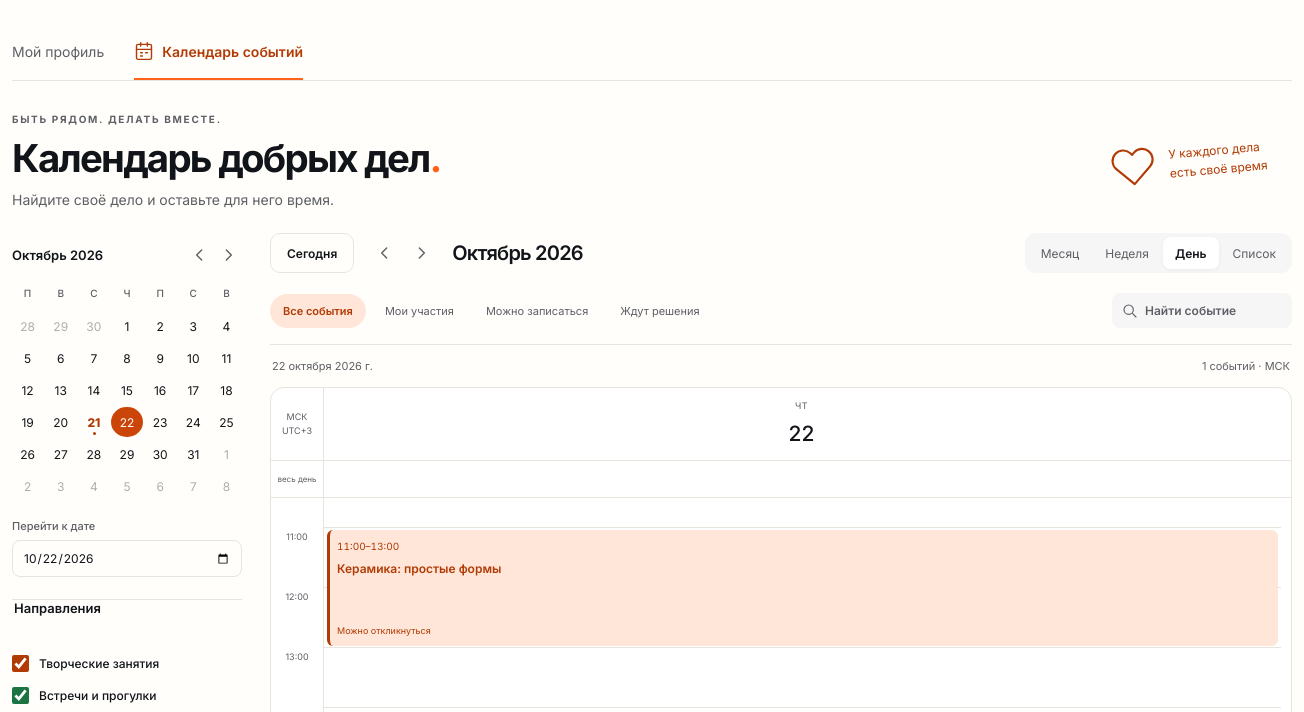
Test case: calendar interaction › combines search, direction and participation filters with an empty state
(page scrolled)
Expected: the button with aria-label "Керамика: простые формы, " is shown, [327,530,1278,646]
Type "несуществующее" into the search field.
click(1214, 311); type("несуществующее")  # box [1145,293,1282,328]
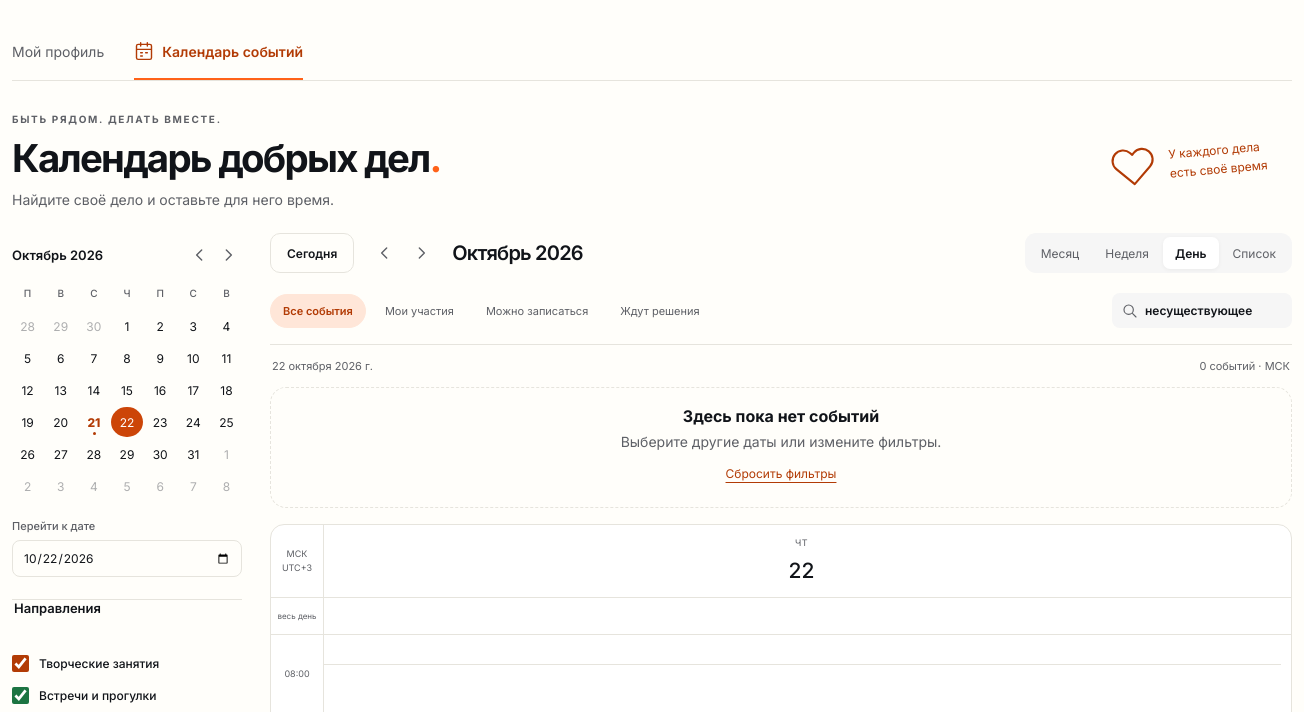
Expected: the heading "Здесь пока нет событий" is shown, [683,406,879,426]
Click the button "Сбросить фильтры".
click(781, 474)  # box [718,458,844,489]
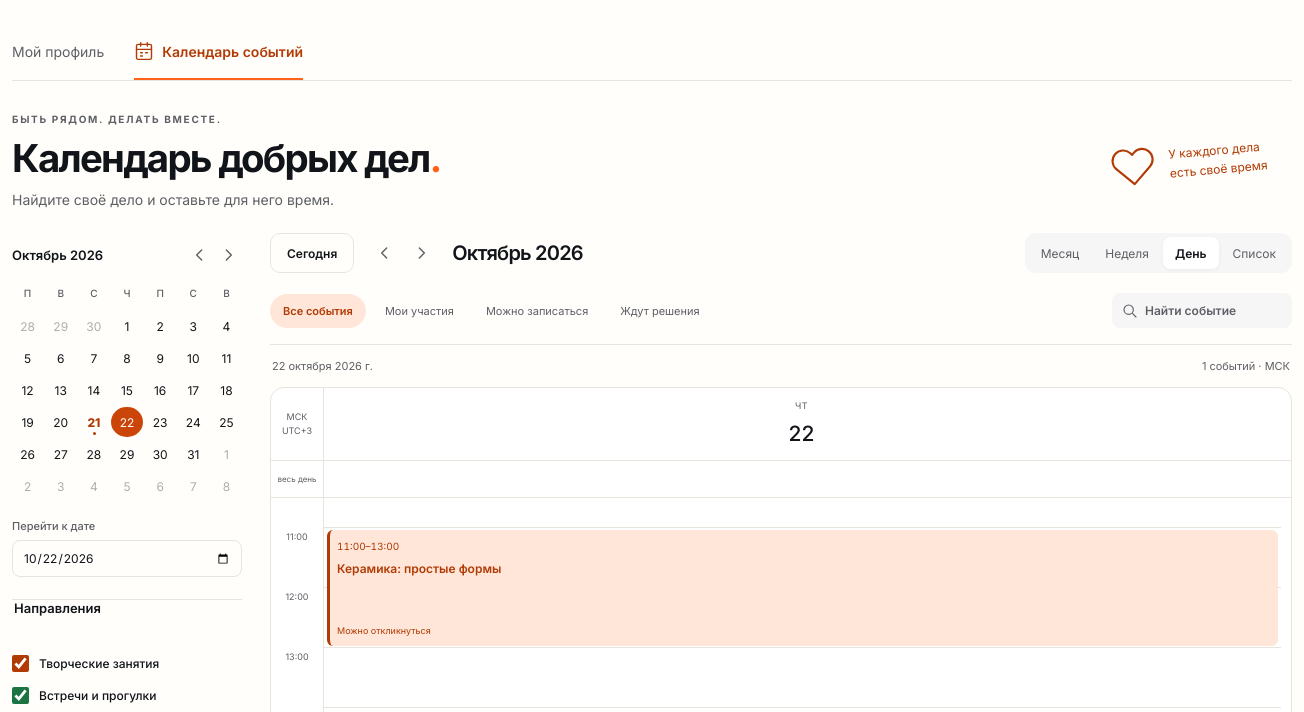
Click the checkbox labelled "Творческие занятия".
click(20, 664)  # box [12,655,29,672]
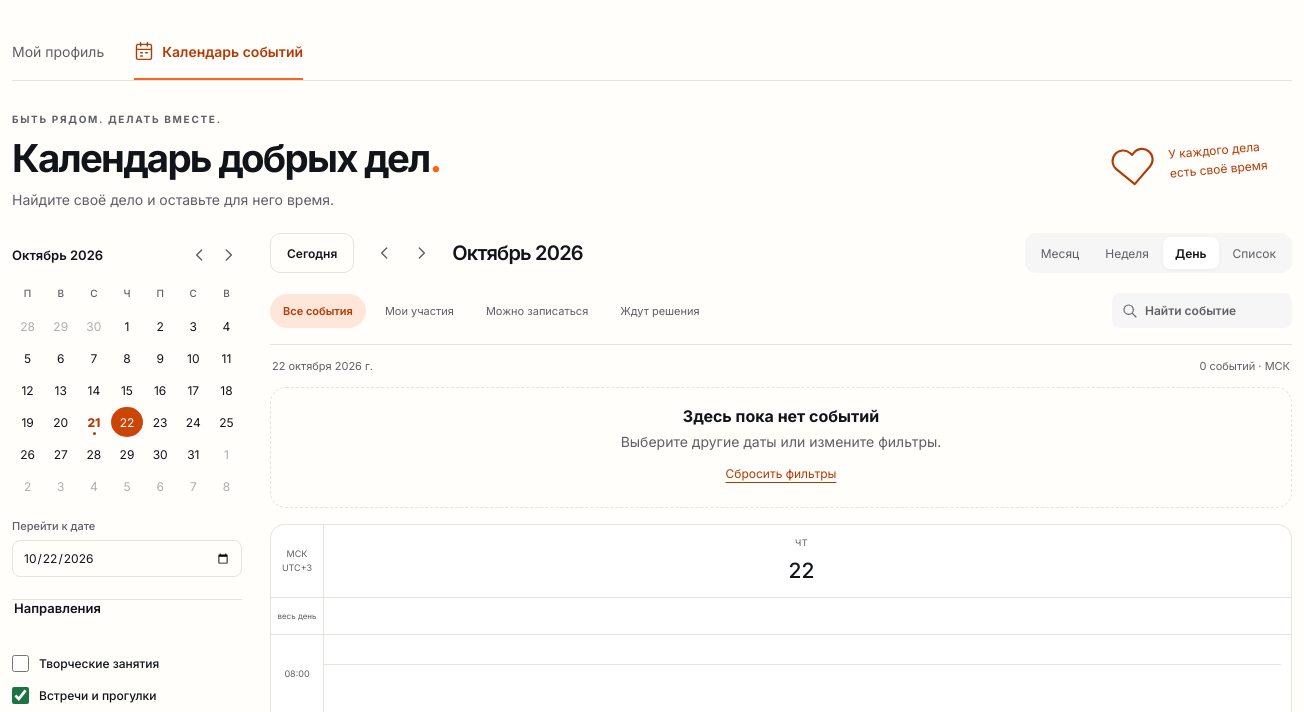
Expected: the heading "Здесь пока нет событий" is shown, [683,406,879,426]
Click the button "Сбросить фильтры".
click(781, 474)  # box [718,458,844,489]
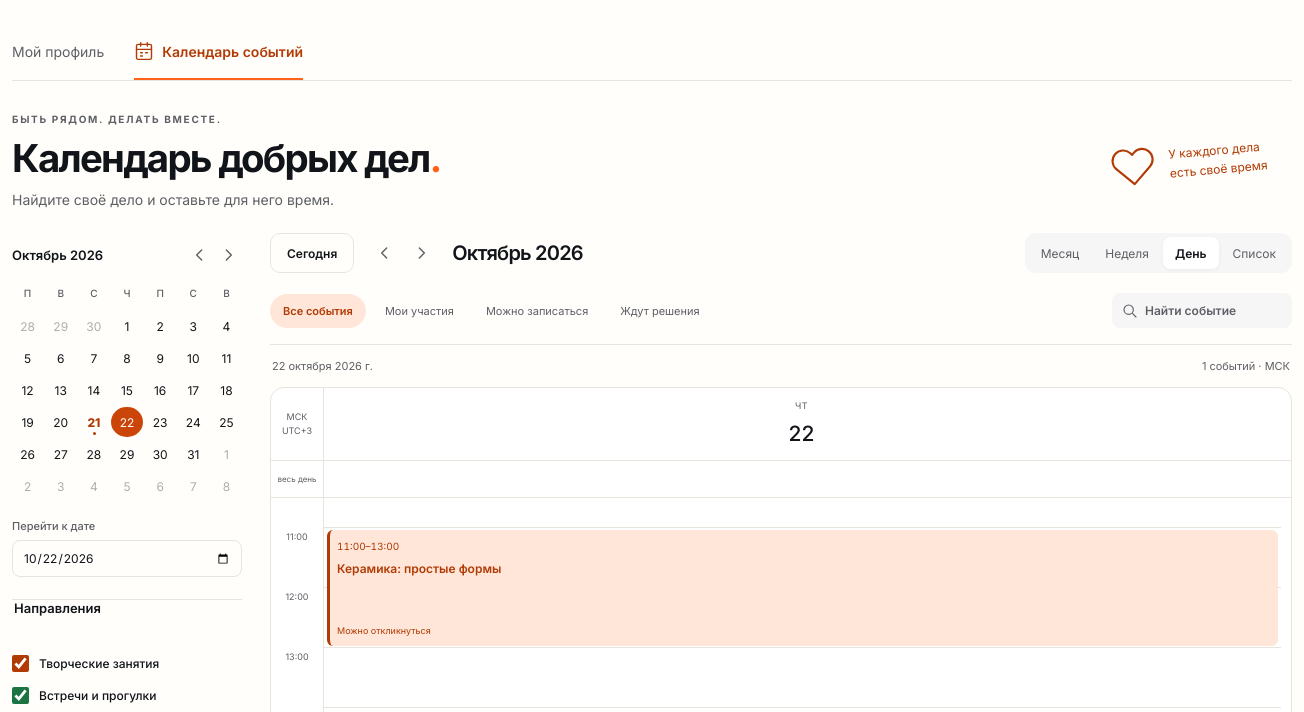
Click the button "Мои участия".
click(419, 311)  # box [372,294,467,328]
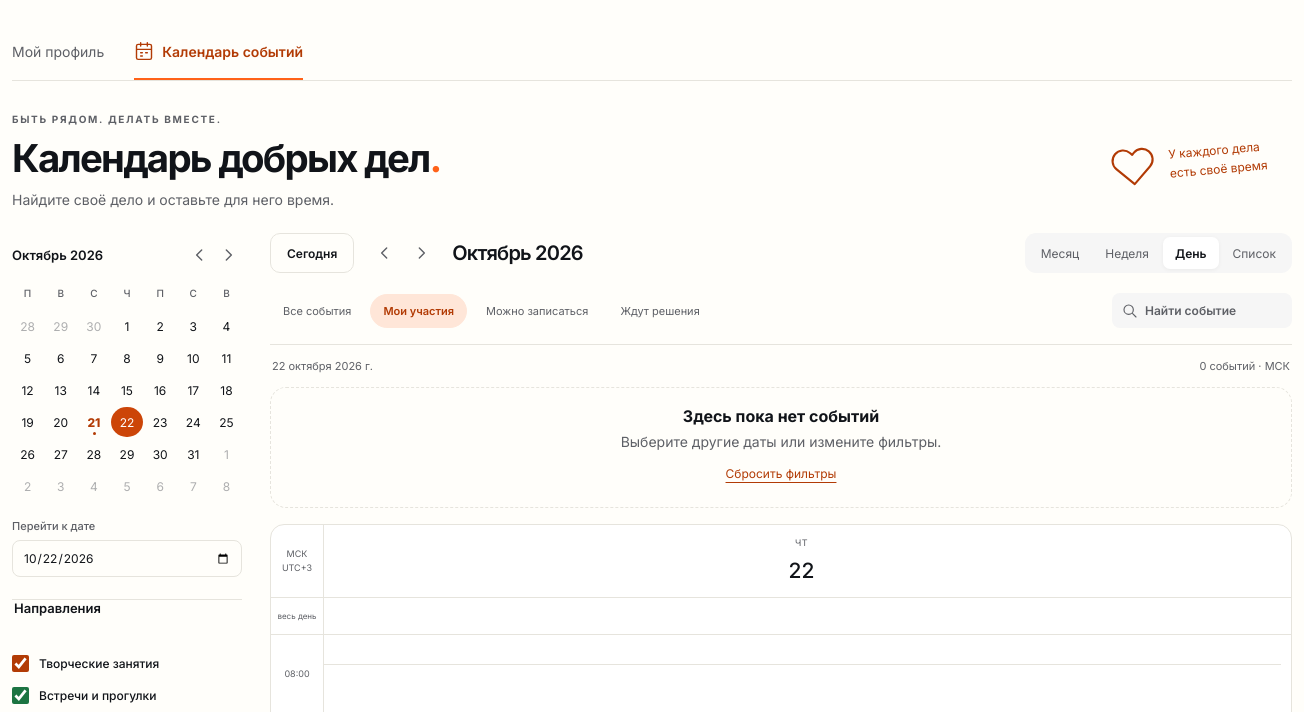
Expected: the heading "Здесь пока нет событий" is shown, [683,406,879,426]
